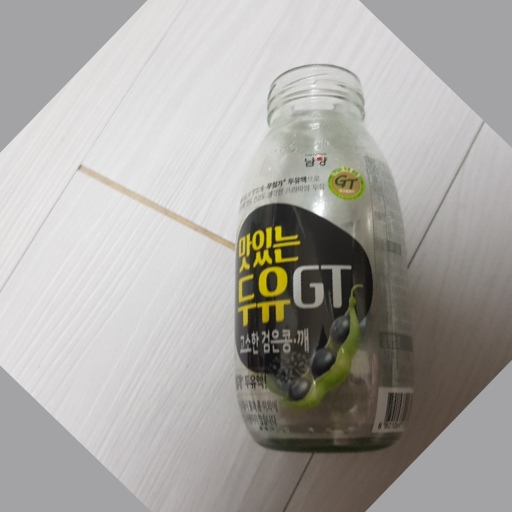Glass_4: (229, 60, 420, 455)
